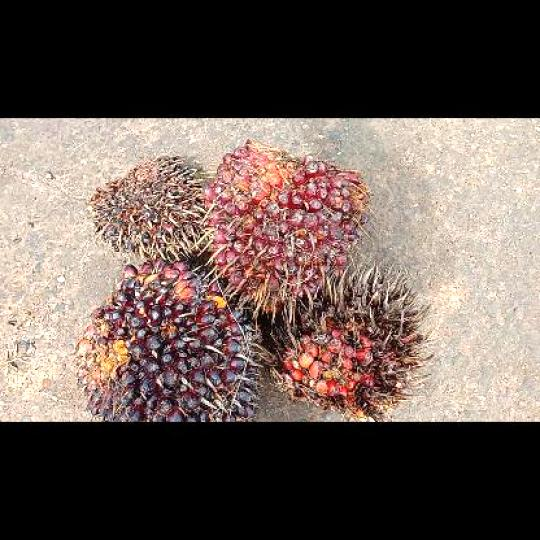kurang masak: (73, 262, 267, 421)
masak: (204, 136, 367, 316)
terlalu masak: (263, 260, 435, 420)
